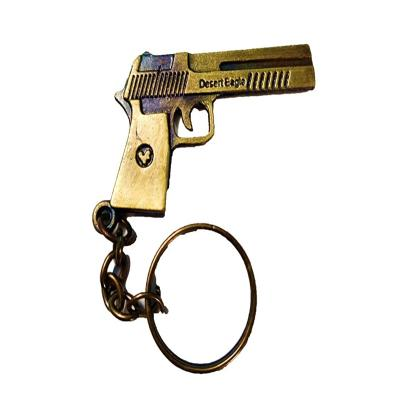handgun: (97, 28, 324, 224)
